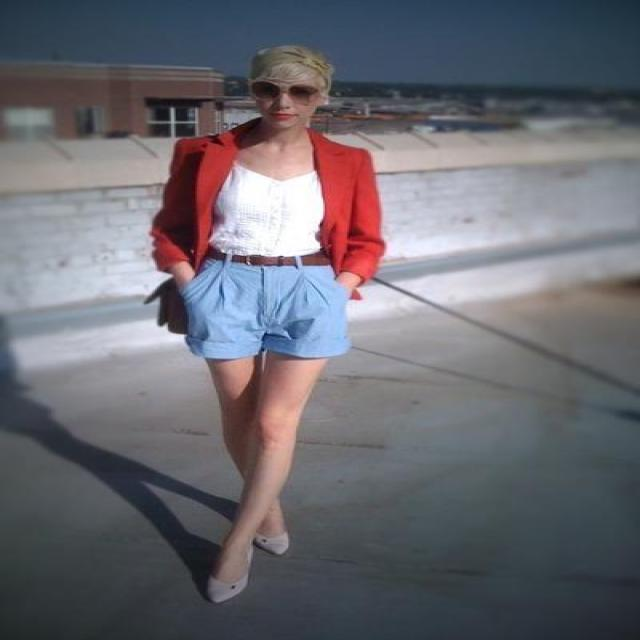bag: (146, 278, 193, 333)
jacket: (150, 130, 384, 286)
shirt: (211, 167, 323, 256)
shoe: (211, 568, 248, 600)
shorts: (179, 244, 349, 358)
sunglass: (253, 82, 312, 114)
